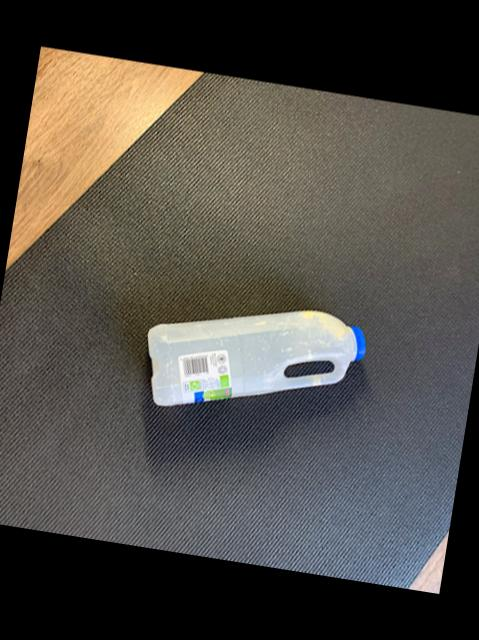plastic: (147, 312, 364, 407)
